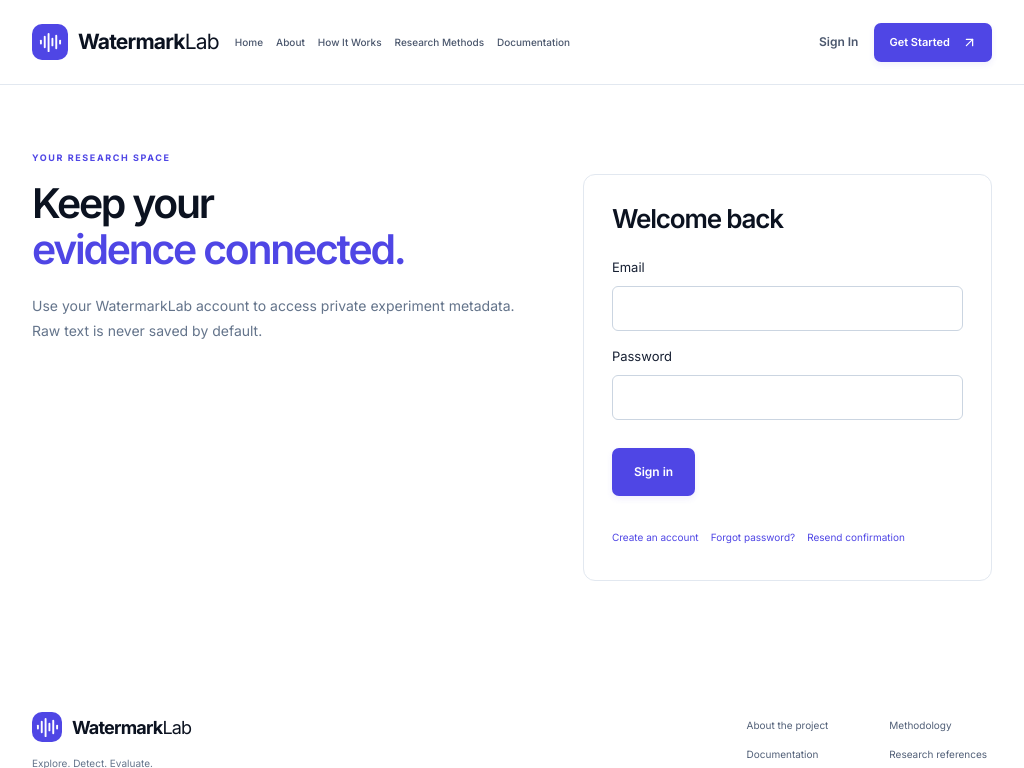
Test: login reaches dashboard without asking for display name or writing profile
Check: the heading "Welcome back" is shown, box [612, 203, 783, 234]
Type "alice@example.test" into the field labelled "Email" at x=787, y=308, box [612, 286, 963, 331]
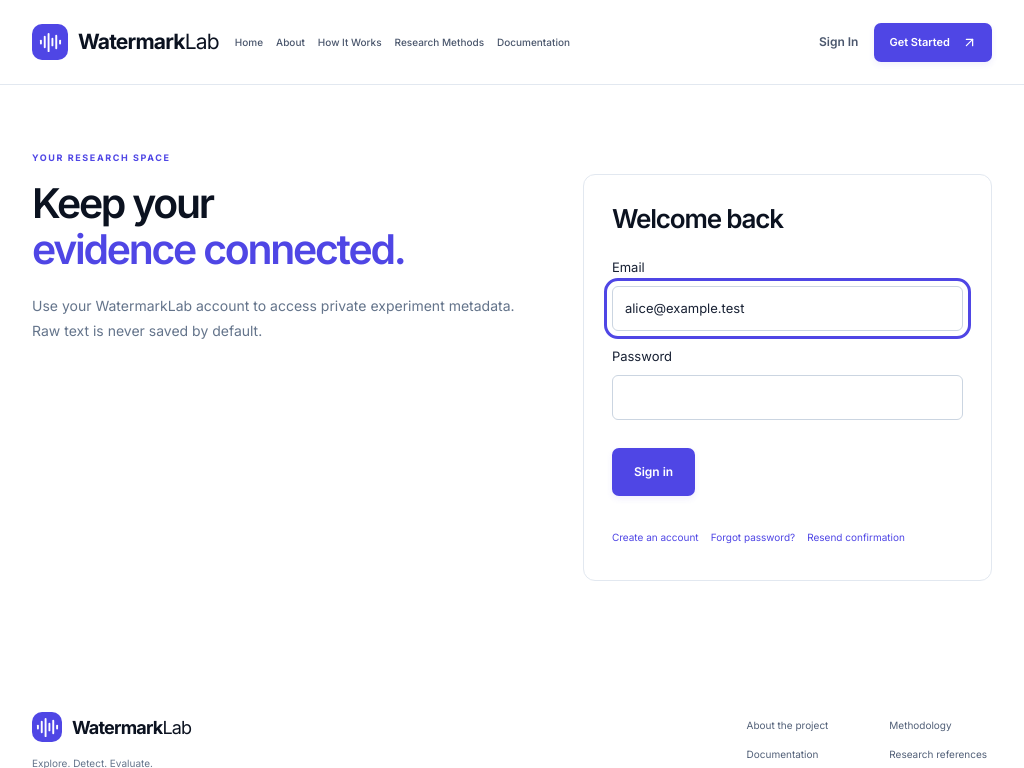
Type "synthetic-password" into the password field labelled "Password" at x=787, y=397, box [612, 375, 963, 420]
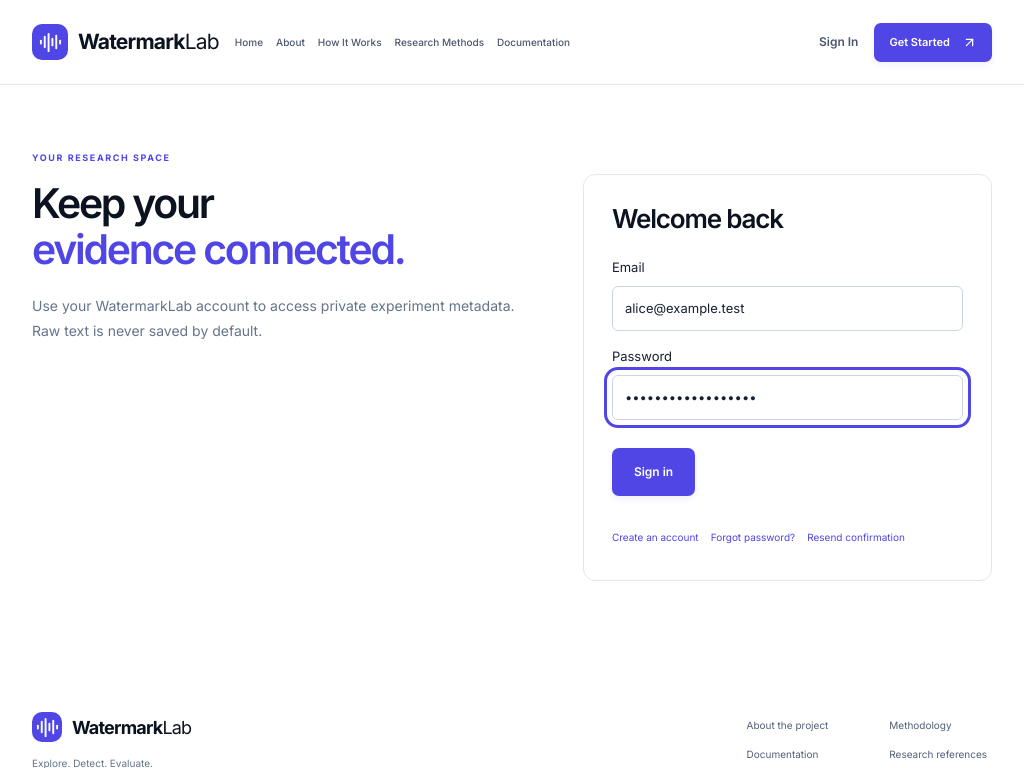
Click the button "Sign in" at x=654, y=472, box [612, 448, 695, 496]
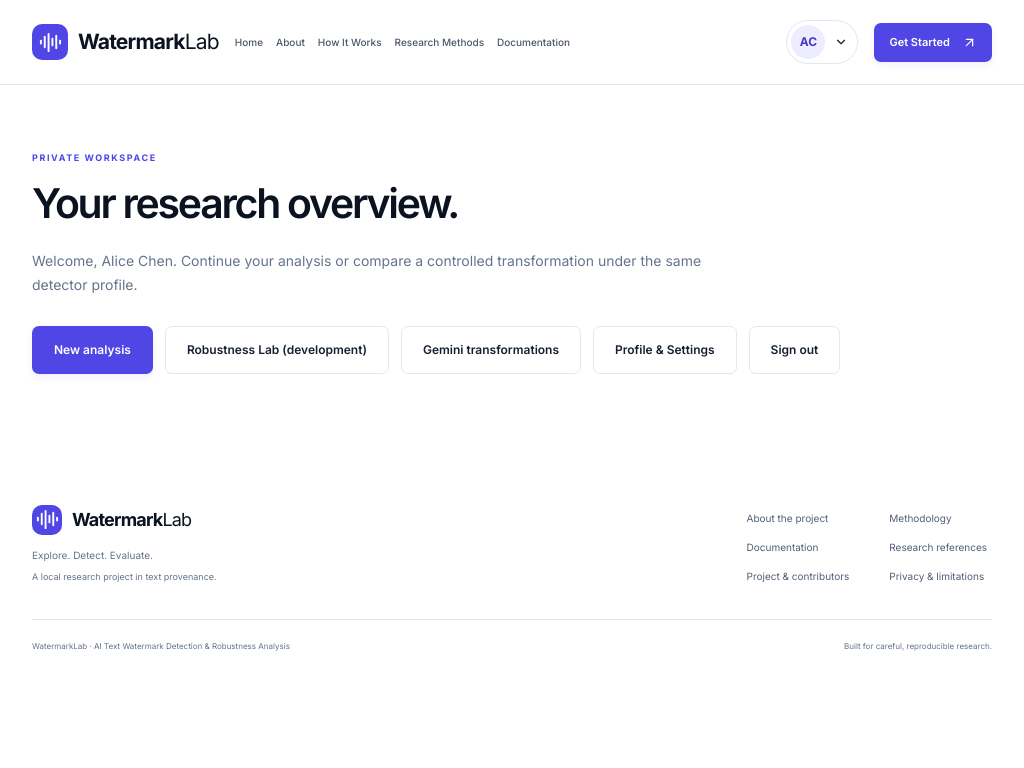
Check: the heading "Your research overview." is shown, box [32, 178, 458, 228]
